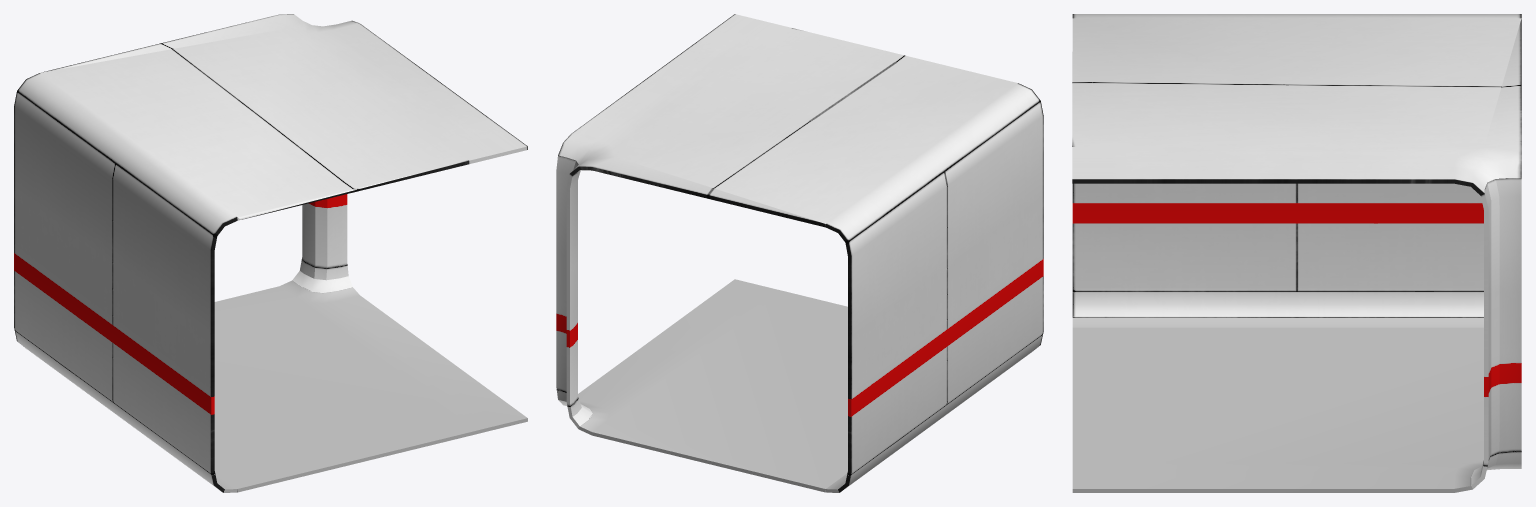
The model's file is Room_CornerWall.FBX.
3 views of the same model, side by side, from view 1: azimuth 30°, elevation 25°; view 2: azimuth 150°, elevation 25°; view 3: azimuth 270°, elevation 25° (orthographic). The views are drawn at different scales.
Visible parts, largest first — view 1: Room; view 2: Room; view 3: Room.
Part boxes in pixels (left/top/right/bottom): Room: left=14, top=14, right=527, bottom=492; Room: left=556, top=14, right=1043, bottom=492; Room: left=1072, top=14, right=1521, bottom=492.
Size of the model in its own units: 2.78 by 2.31 by 3.
